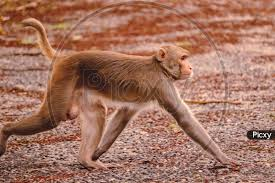monkey: (12, 32, 260, 159)
